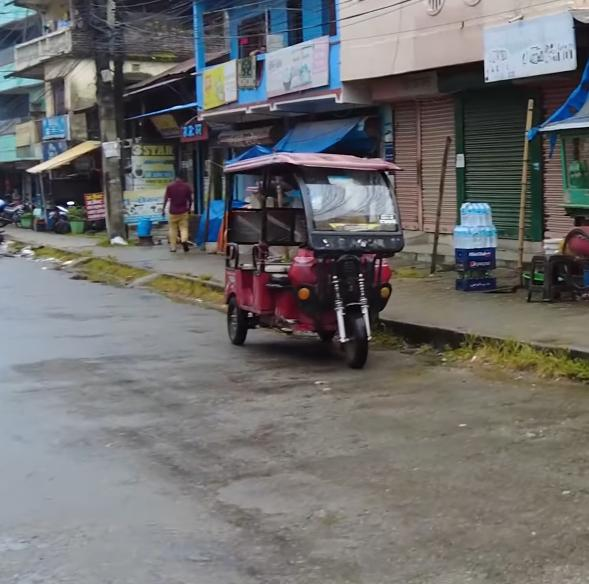e-rickshaw: (215, 143, 403, 370)
